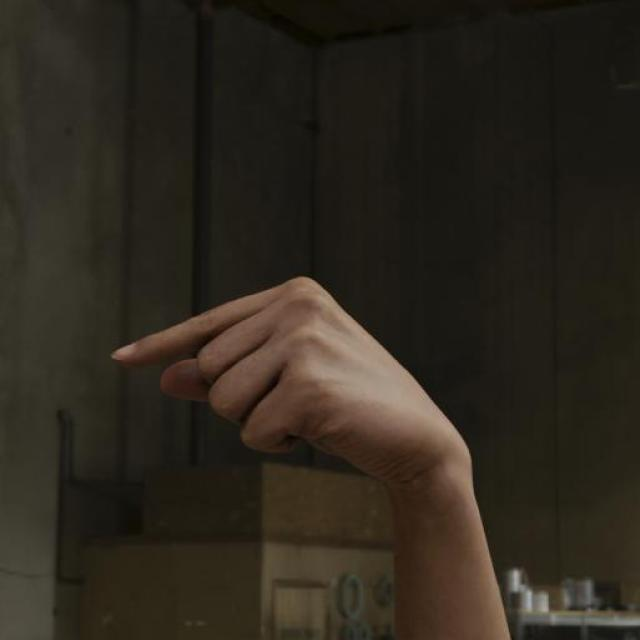G: (104, 272, 479, 502)
